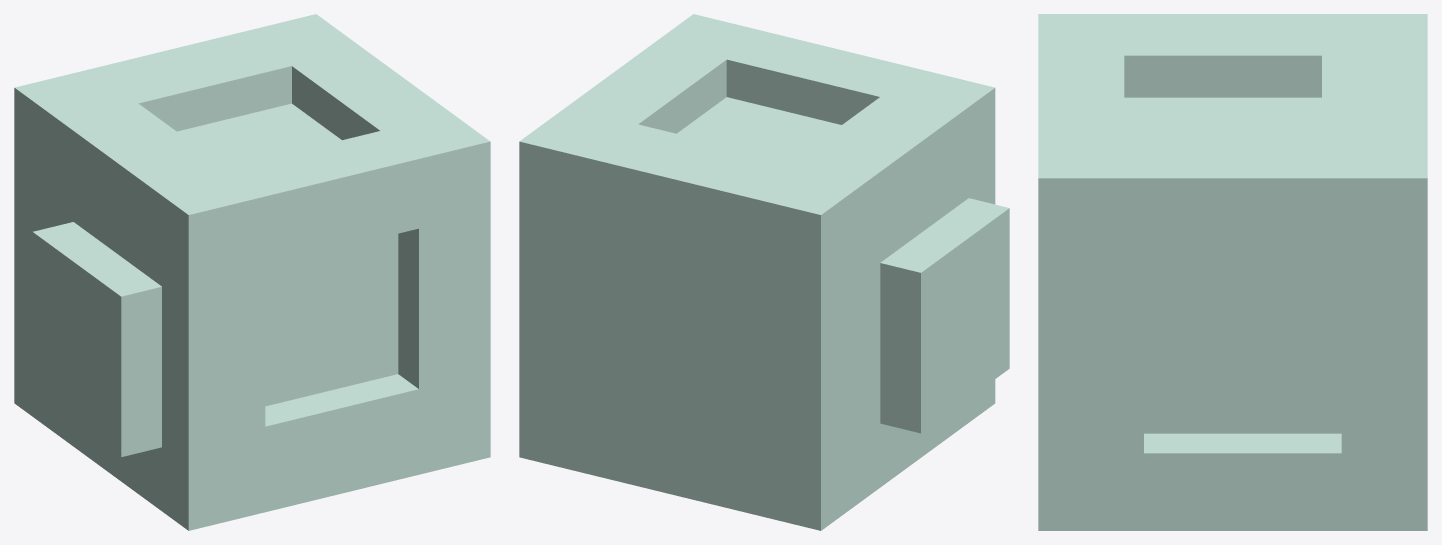
3 renders of one model, left to right at view 1: azimuth 30°, elevation 25°; view 2: azimuth 150°, elevation 25°; view 3: azimuth 270°, elevation 25°, orthographic. The views are drawn at different scales.
Parts seen in each view (by area): view 1: Renderer Node; view 2: Renderer Node; view 3: Renderer Node.
Part boxes in pixels (box(x1,y1,x2,y2)): Renderer Node: box(14, 14, 490, 530); Renderer Node: box(519, 14, 1009, 530); Renderer Node: box(1038, 14, 1427, 530).
Bounding box in the file's own units: 0.5234 × 0.4609 × 0.4609.
